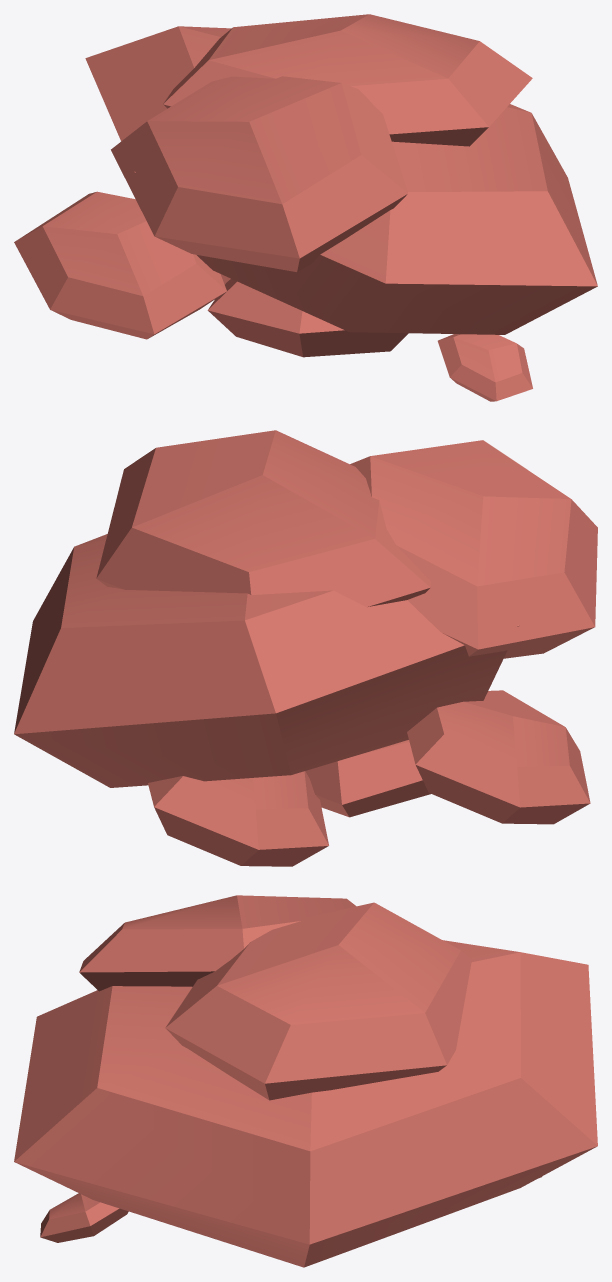
Rendered from albero7.fbx.
3 renders of one model, top to bottom at view 1: azimuth 30°, elevation 25°; view 2: azimuth 150°, elevation 25°; view 3: azimuth 270°, elevation 25°, orthographic. The views are drawn at different scales.
Parts seen in each view (by area): view 1: polySurface7, polySurface11, polySurface10, polySurface12, polySurface13, polySurface9; view 2: polySurface7, polySurface10, polySurface11, polySurface12, polySurface8, polySurface13; view 3: polySurface7, polySurface10, polySurface11, polySurface9.
Part boxes in pixels (<box>): polySurface7: <box>85,26,597,334</box>; polySurface11: <box>111,76,408,271</box>; polySurface10: <box>163,14,532,146</box>; polySurface12: <box>14,191,226,339</box>; polySurface13: <box>207,279,408,357</box>; polySurface9: <box>437,334,532,401</box>; polySurface7: <box>14,534,519,787</box>; polySurface10: <box>96,430,430,606</box>; polySurface11: <box>350,440,597,658</box>; polySurface12: <box>407,690,590,824</box>; polySurface8: <box>148,771,328,866</box>; polySurface13: <box>305,740,430,817</box>; polySurface7: <box>14,940,597,1267</box>; polySurface10: <box>165,902,472,1100</box>; polySurface11: <box>79,895,356,991</box>; polySurface9: <box>40,1193,128,1242</box>.
Size of the model in its own units: 453 by 241 by 447.
